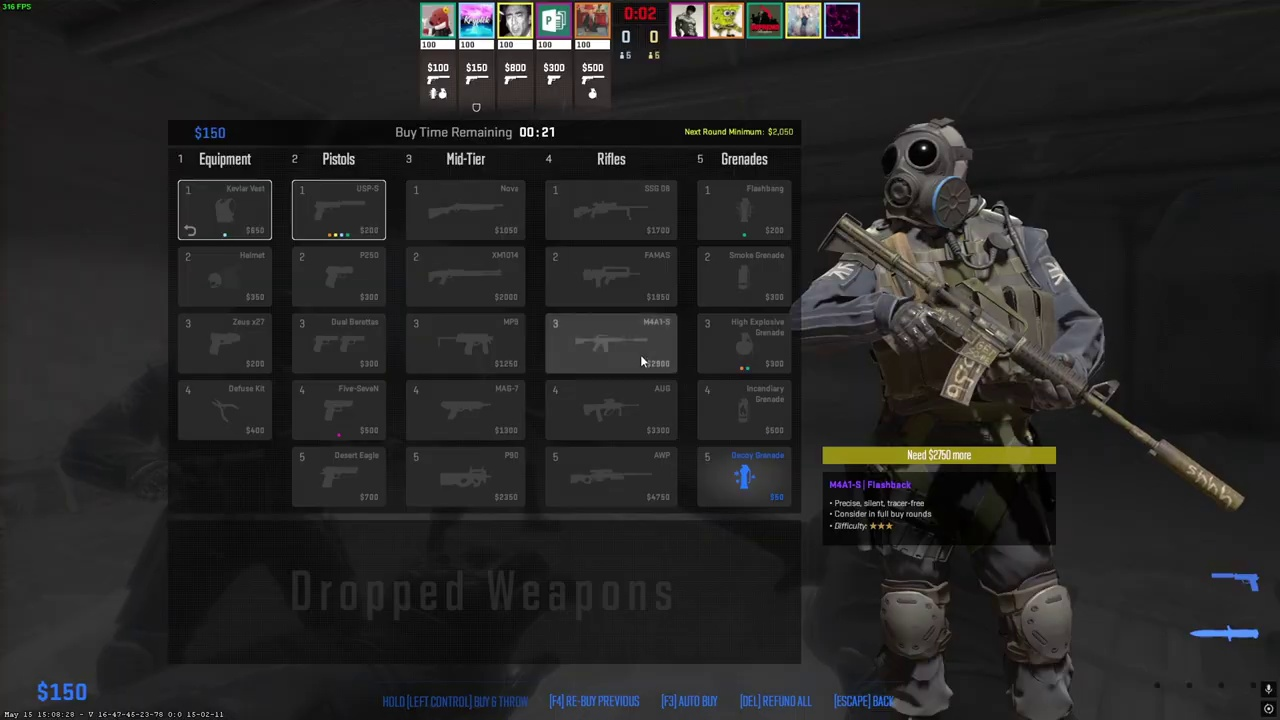CT: (851, 121, 1093, 720)
